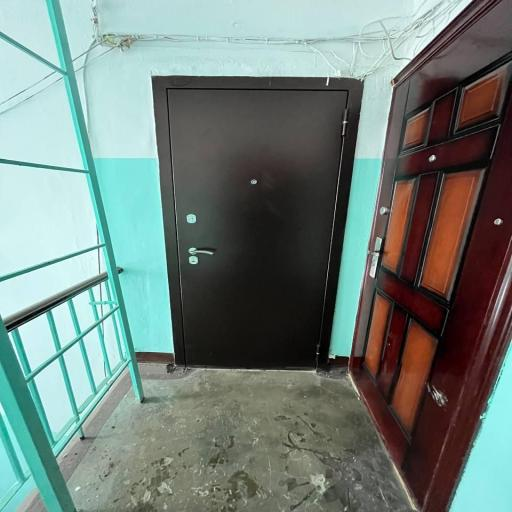corridor: (349, 0, 511, 512), (154, 77, 348, 368)
curb: (77, 0, 512, 512)
